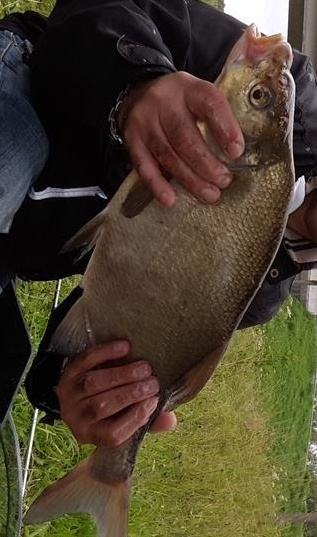Abramis brama: (20, 20, 297, 537)
